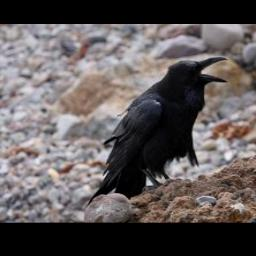Crow: (84, 57, 227, 207)
